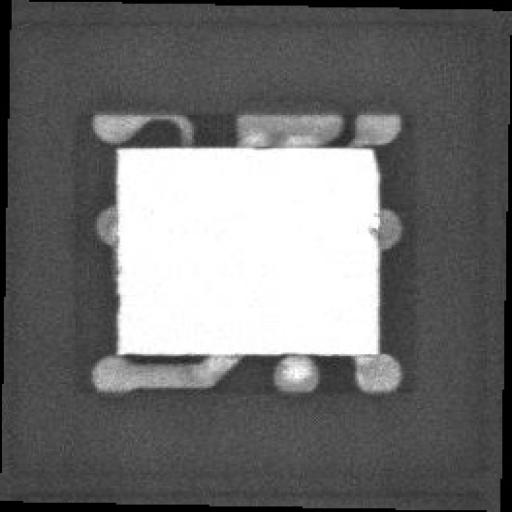DIE_BROKEN: (370, 143, 382, 169), (365, 222, 378, 238)
